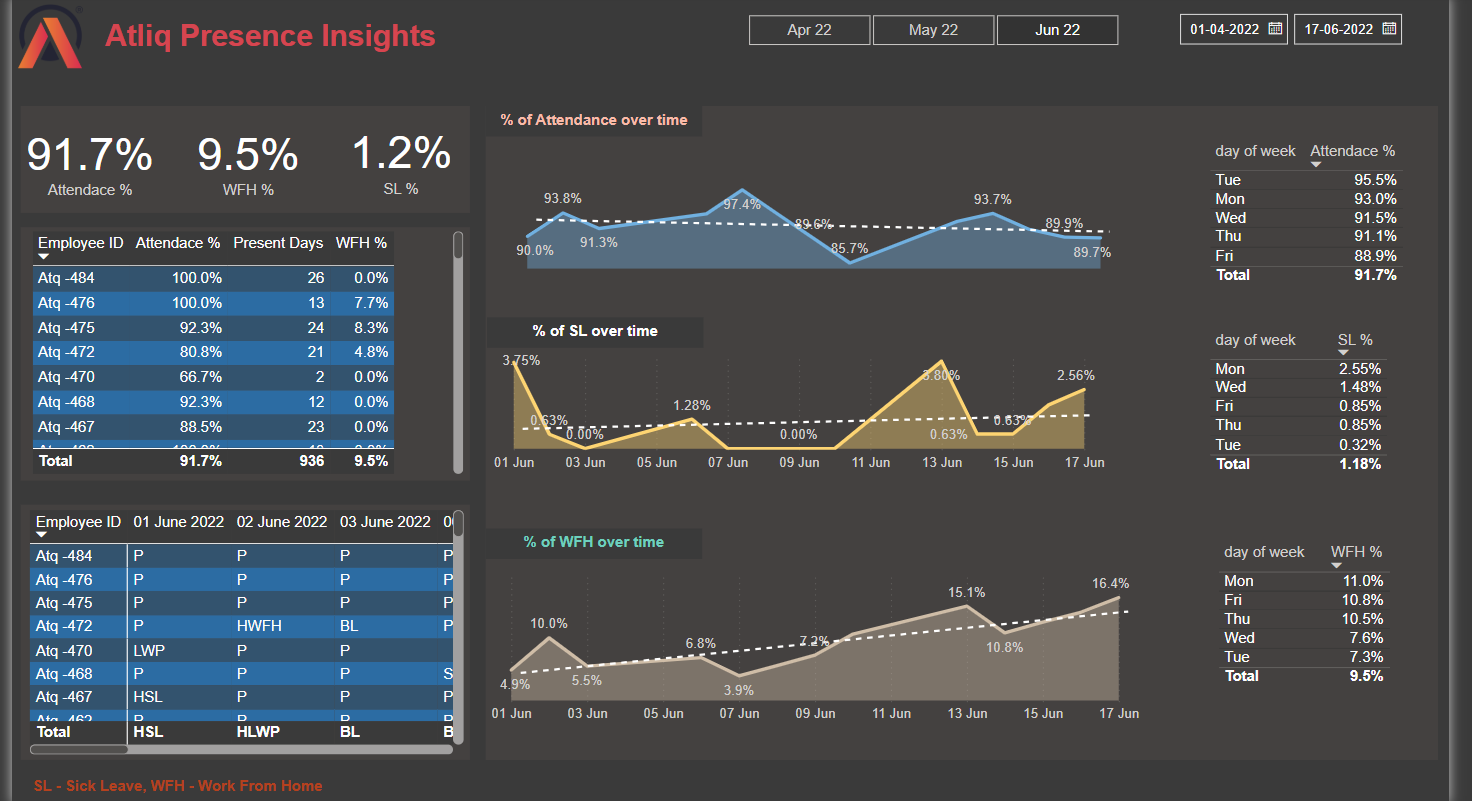

The dashboard page shown, as its layout file describes it:
{"tool":"powerbi","page":{"name":"Presence Insights","canvas":[1280,720],"ordinal":0},"visuals":[{"type":"textbox","box":[7.8,205.6,399.9,225.5],"z":0},{"type":"textbox","box":[7.8,453.3,399.8,227.6],"z":1000},{"type":"textbox","box":[422.3,97.9,848.1,582.3],"z":2000},{"type":"textbox","box":[7.8,98,399.9,95.4],"z":3000},{"type":"tableEx","fields":{"Values":["Final Data.Employee ID","Measures (2).Attendace %","Measures (2).Present Days","Measures (2).WFH %"]},"box":[12.6,205.2,394.9,225.7],"z":4000},{"type":"slicer","fields":{"Values":["Final Data.Date"]},"box":[1027.3,5.2,252.7,46.3],"z":5000},{"type":"slicer","fields":{"Values":["Final Data.MMM YY"]},"box":[630.4,10.5,379.5,35.8],"z":6000},{"type":"areaChart","fields":{"Category":["Final Data.MMM YY","Final Data.Date"],"Y":["Measures (2).WFH %"]},"box":[420.7,502.3,589,153.5],"z":7000},{"type":"areaChart","fields":{"Category":["Final Data.WeekNo","Final Data.Date"],"Y":["Measures (2).Attendace %"]},"box":[444.1,144.9,540.4,103.2],"z":8000},{"type":"card","fields":{"Values":["Measures (2).Attendace %"]},"box":[7.8,98,124,96.3],"z":9000},{"type":"card","fields":{"Values":["Measures (2).WFH %"]},"box":[141.4,98,138.8,96.3],"z":10000},{"type":"areaChart","fields":{"Category":["Final Data.MMM YY","Final Data.Date"],"Y":["Measures (2).SL %"]},"box":[422.5,307.1,556,124],"z":11000},{"type":"image","box":[0,0,70,71],"z":12000},{"type":"card","fields":{"Values":["Measures (2).SL %"]},"box":[286.3,97.2,121.4,96.3],"z":13000},{"type":"textbox","box":[70.3,0,320.1,71.1],"z":14000},{"type":"textbox","box":[422.4,98.2,192.5,27.5],"z":15000},{"type":"textbox","box":[422.5,286.3,192.6,26.9],"z":16000},{"type":"textbox","box":[422.1,473.7,192.6,27.2],"z":17000},{"type":"pivotTable","fields":{"Rows":["Final Data.Employee ID"],"Columns":["Final Data.Date"],"Values":["Min(Final Data.Value)"]},"box":[11.7,453.3,395.9,227.6],"z":18000},{"type":"textbox","box":[13.6,691.6,289.8,28.2],"z":19000},{"type":"tableEx","fields":{"Values":["Final Data.day of week","Measures (2).Attendace %"]},"box":[1060.9,125.8,209.9,145.7],"z":20000},{"type":"tableEx","fields":{"Values":["Final Data.day of week","Measures (2).SL %"]},"box":[1060.9,294.1,191.7,167.4],"z":21000},{"type":"tableEx","fields":{"Values":["Final Data.day of week","Measures (2).WFH %"]},"box":[1068.7,483.2,170,167.4],"z":22000}]}

Visuals, with their boxes on the page's 1280x720 design canvas (x1, y1, x2, y2). These are canvas units, not pixel positions in the 1472x801 screenshot, which may show the page scaled, cropped or inside an application window:
textbox: 8, 206, 408, 431
textbox: 8, 453, 408, 681
textbox: 422, 98, 1270, 680
textbox: 8, 98, 408, 193
tableEx - Final Data.Employee ID x Measures (2).Attendace %: 13, 205, 408, 431
slicer - Final Data.Date: 1027, 5, 1280, 52
slicer - Final Data.MMM YY: 630, 10, 1010, 46
areaChart - Final Data.MMM YY x Final Data.Date: 421, 502, 1010, 656
areaChart - Final Data.WeekNo x Final Data.Date: 444, 145, 984, 248
card - Measures (2).Attendace %: 8, 98, 132, 194
card - Measures (2).WFH %: 141, 98, 280, 194
areaChart - Final Data.MMM YY x Final Data.Date: 422, 307, 978, 431
image: 0, 0, 70, 71
card - Measures (2).SL %: 286, 97, 408, 194
textbox: 70, 0, 390, 71
textbox: 422, 98, 615, 126
textbox: 422, 286, 615, 313
textbox: 422, 474, 615, 501
pivotTable - Final Data.Employee ID x Final Data.Date: 12, 453, 408, 681
textbox: 14, 692, 303, 720
tableEx - Final Data.day of week x Measures (2).Attendace %: 1061, 126, 1271, 272
tableEx - Final Data.day of week x Measures (2).SL %: 1061, 294, 1253, 462
tableEx - Final Data.day of week x Measures (2).WFH %: 1069, 483, 1239, 651
